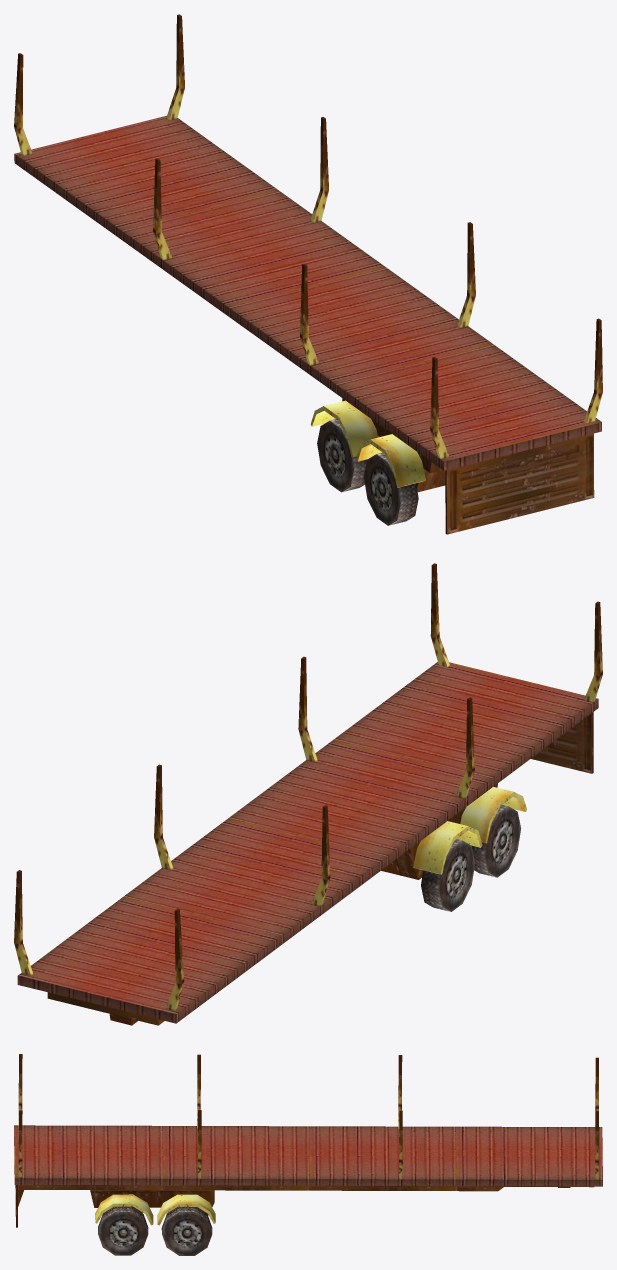
Rendered from p54_48_trailer_flatbed_rust.glb.
The picture shows the model from 3 angles, top to bottom: view 1: azimuth 30°, elevation 25°; view 2: azimuth 150°, elevation 25°; view 3: azimuth 270°, elevation 25°; orthographic projection. The views are drawn at different scales.
Parts seen in each view (by area): view 1: Body; view 2: Body; view 3: Body.
Part boxes in pixels (x1=…): Body: x1=14, y1=14, x2=602, y2=534; Body: x1=14, y1=563, x2=602, y2=1025; Body: x1=14, y1=1054, x2=602, y2=1255.
Bounding box in the file's own units: 3.36 × 4.1 × 14.21.
Materials: 1 (1 with a texture image).
